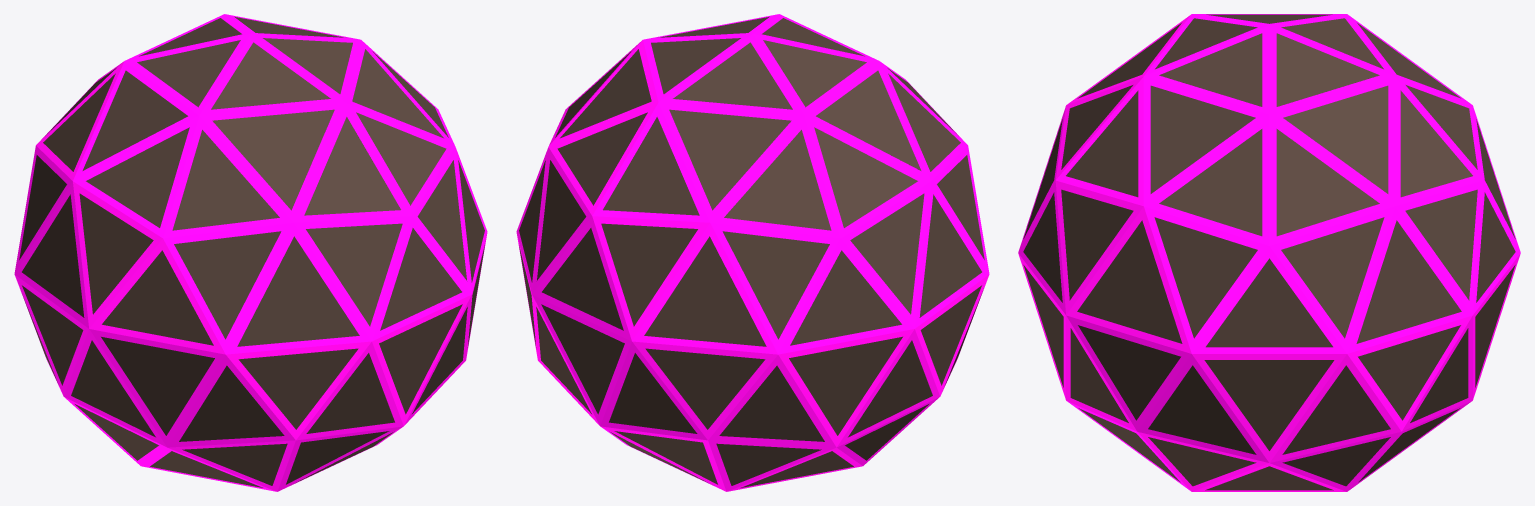
Rendered from Coconut.glb.
3 renders of one model, left to right at view 1: azimuth 30°, elevation 25°; view 2: azimuth 150°, elevation 25°; view 3: azimuth 270°, elevation 25°, orthographic. The views are drawn at different scales.
Visible parts, largest first — view 1: Icosphere; view 2: Icosphere; view 3: Icosphere.
Boxes of the visible parts, box(x1,y1,x2,y2) form: Icosphere: box(14, 14, 487, 491); Icosphere: box(516, 14, 989, 491); Icosphere: box(1018, 14, 1520, 491).
Bounding box in the file's own units: 0.2018 × 0.2122 × 0.2122.
